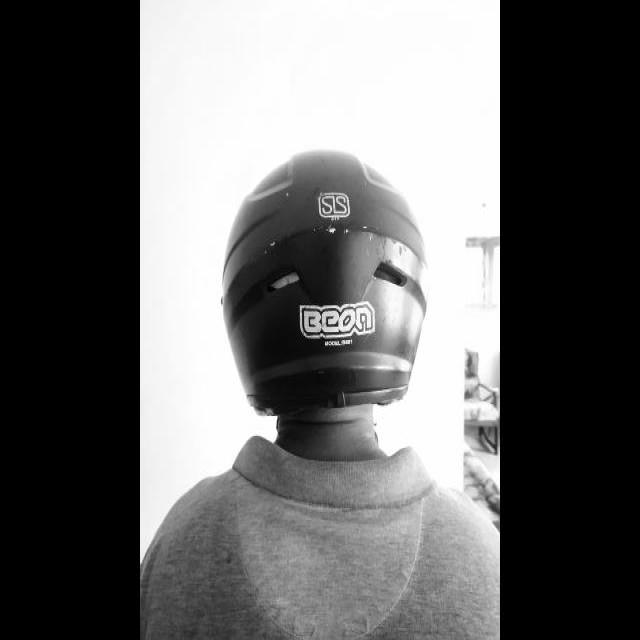5_casco: (220, 149, 430, 416)
